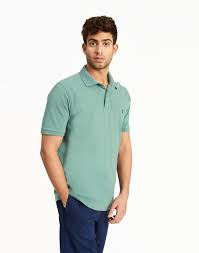C_polo shirt: (37, 57, 141, 205)
